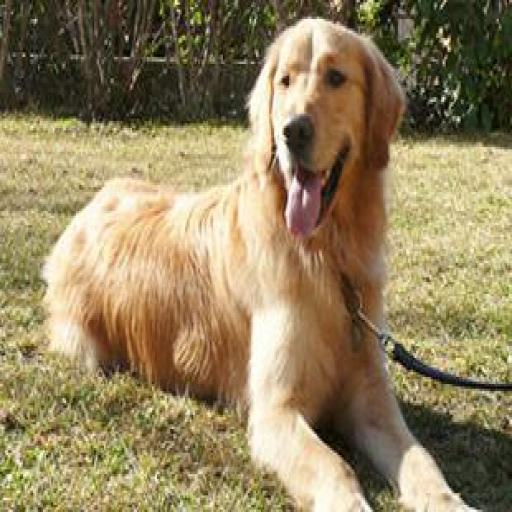dog_face: (249, 18, 390, 243)
